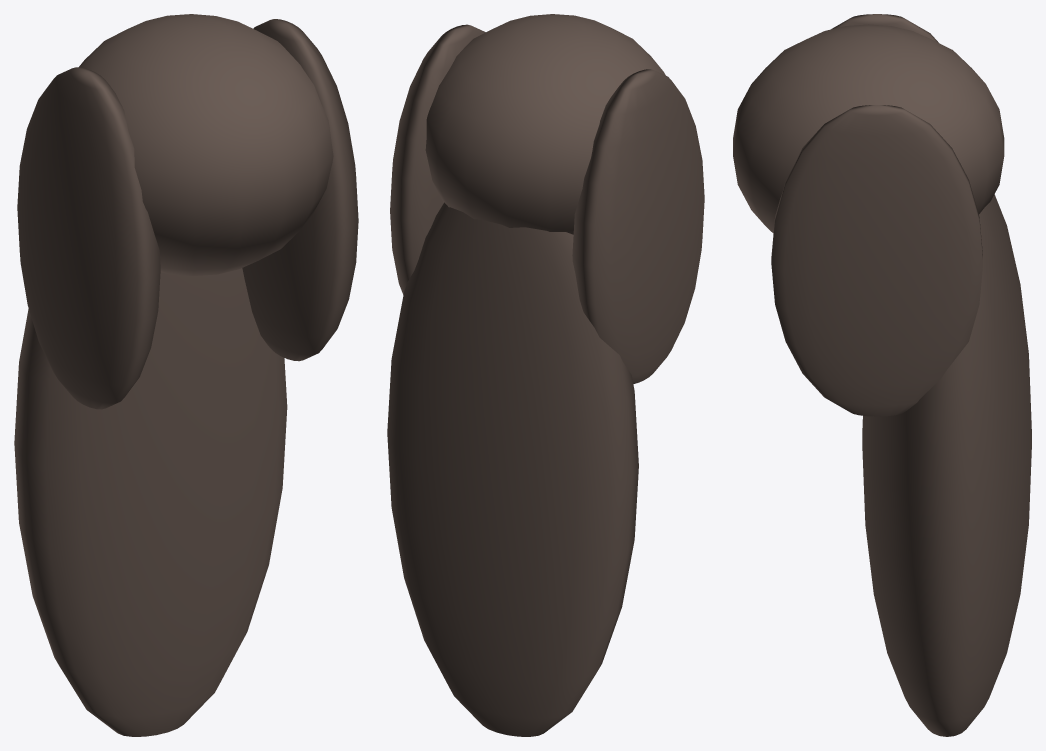
Rendered from hair-long.glb.
3 views of the same model, side by side, from view 1: azimuth 30°, elevation 25°; view 2: azimuth 150°, elevation 25°; view 3: azimuth 270°, elevation 25° (orthographic). The views are drawn at different scales.
Visible parts, largest first — view 1: Hair; view 2: Hair; view 3: Hair.
Part boxes in pixels (box(x1,y1,x2,y2)): Hair: box(14, 14, 358, 736); Hair: box(387, 14, 704, 736); Hair: box(733, 14, 1031, 736).
Size of the model in its own units: 0.29 by 0.712 by 0.2778.
